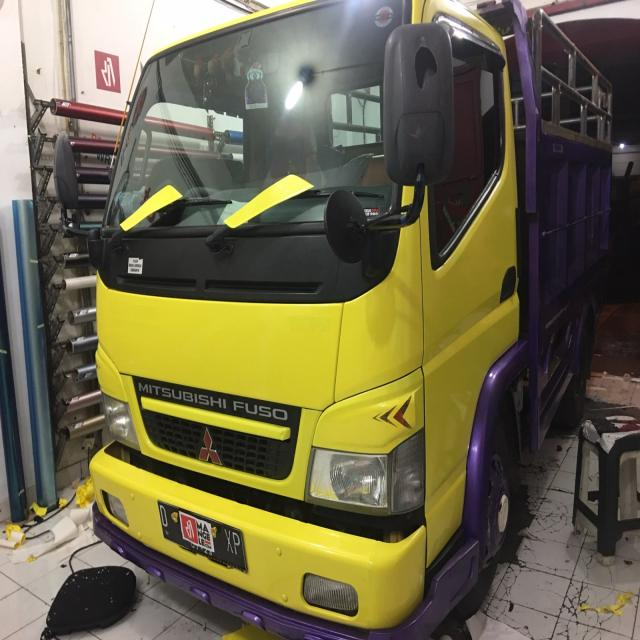Truck: (65, 0, 639, 622)
